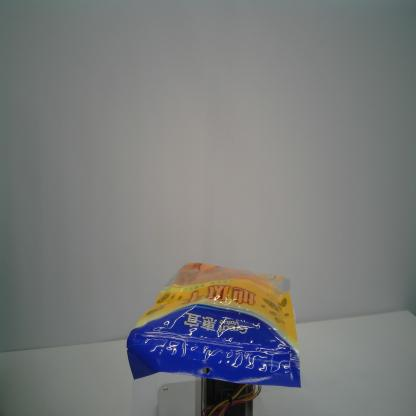Dried Fruit: (124, 262, 301, 391)
